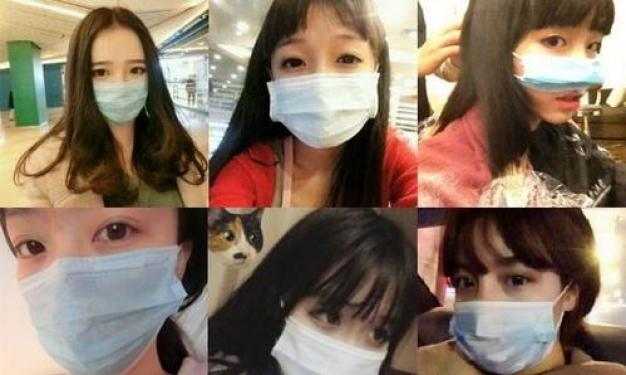OK: (8, 211, 178, 375), (266, 22, 387, 143), (452, 245, 560, 367), (291, 294, 395, 375), (77, 47, 154, 124)
WRONG: (516, 19, 602, 122)
